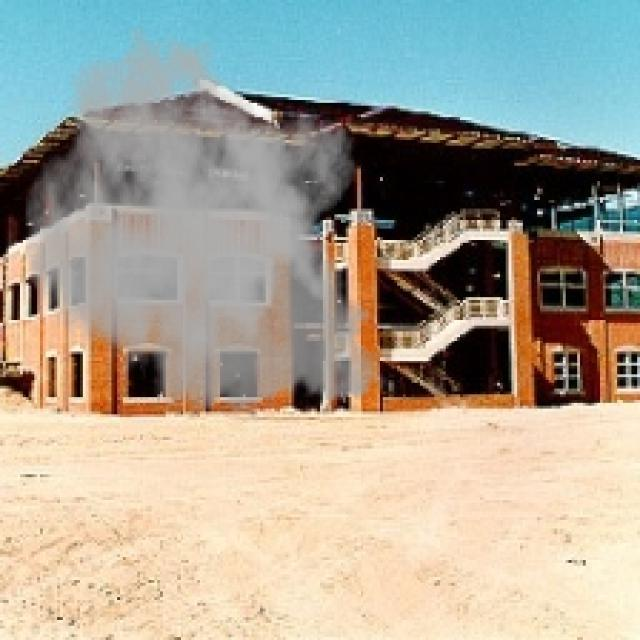Smoke: (22, 23, 394, 426)
